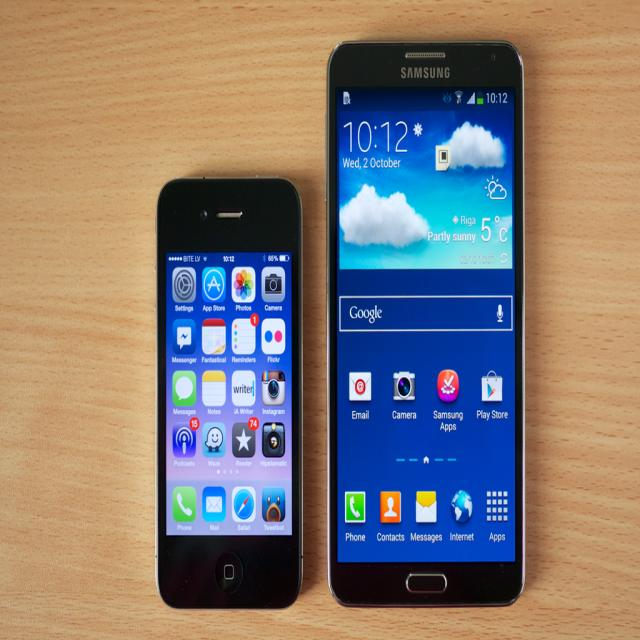Mobile-phone: (327, 40, 527, 609), (149, 165, 310, 617)
